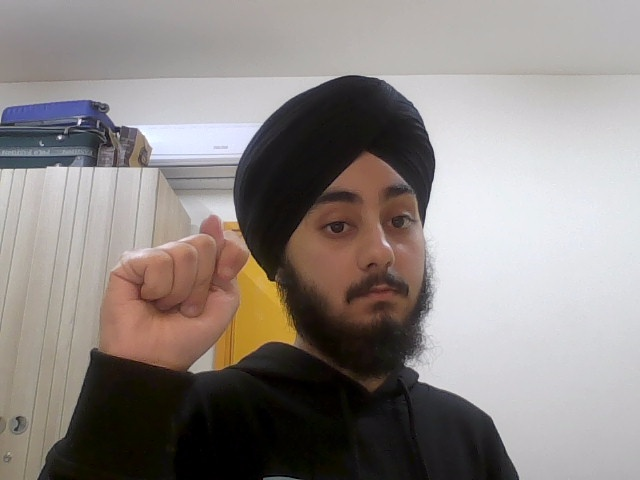Bathroom: (101, 213, 248, 358)
